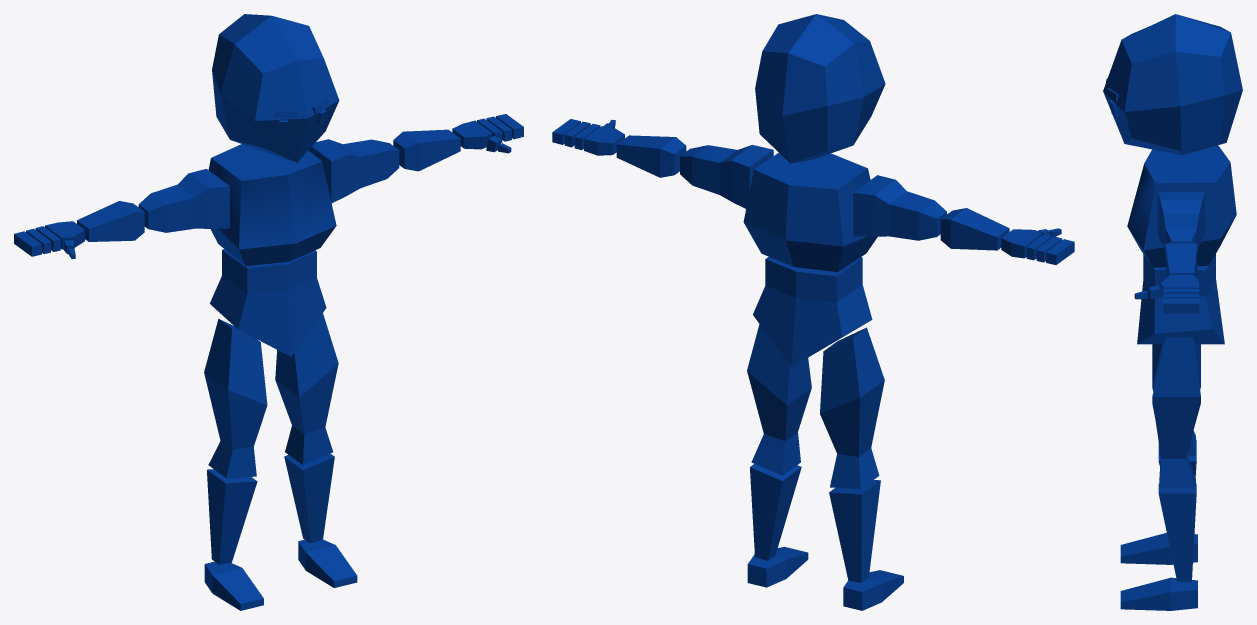
The picture shows the model from 3 angles, left to right: view 1: azimuth 30°, elevation 25°; view 2: azimuth 150°, elevation 25°; view 3: azimuth 270°, elevation 25°; orthographic projection. The views are drawn at different scales.
Visible parts, largest first — view 1: _char_base_Cube.037; view 2: _char_base_Cube.037; view 3: _char_base_Cube.037.
Boxes of the visible parts, box(x1,y1,x2,y2) form: _char_base_Cube.037: box(14, 14, 523, 610); _char_base_Cube.037: box(552, 14, 1074, 610); _char_base_Cube.037: box(1103, 14, 1242, 610).
Size of the model in its own units: 2 by 2.18 by 0.4886.
